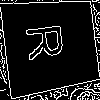R: (25, 20, 73, 62)
